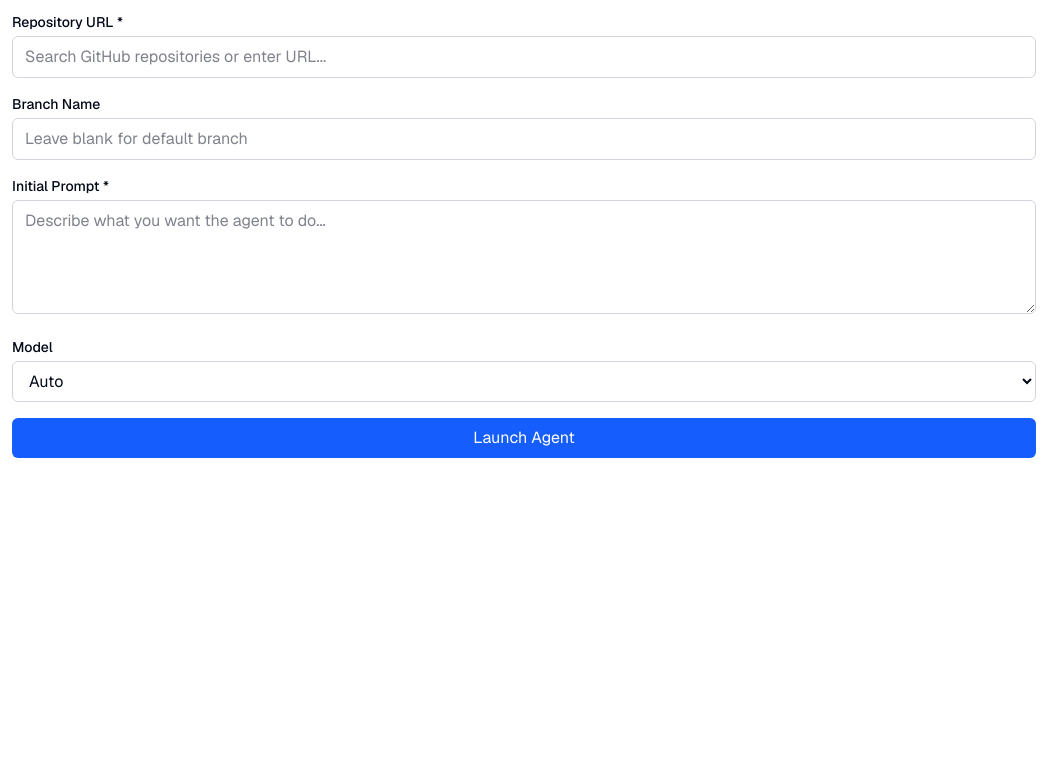
Test case: LaunchAgentForm › should handle API errors
In the field labelled "Repository URL *": [524, 57] box [12,36,1036,78], type "https://github.com/user/repo"
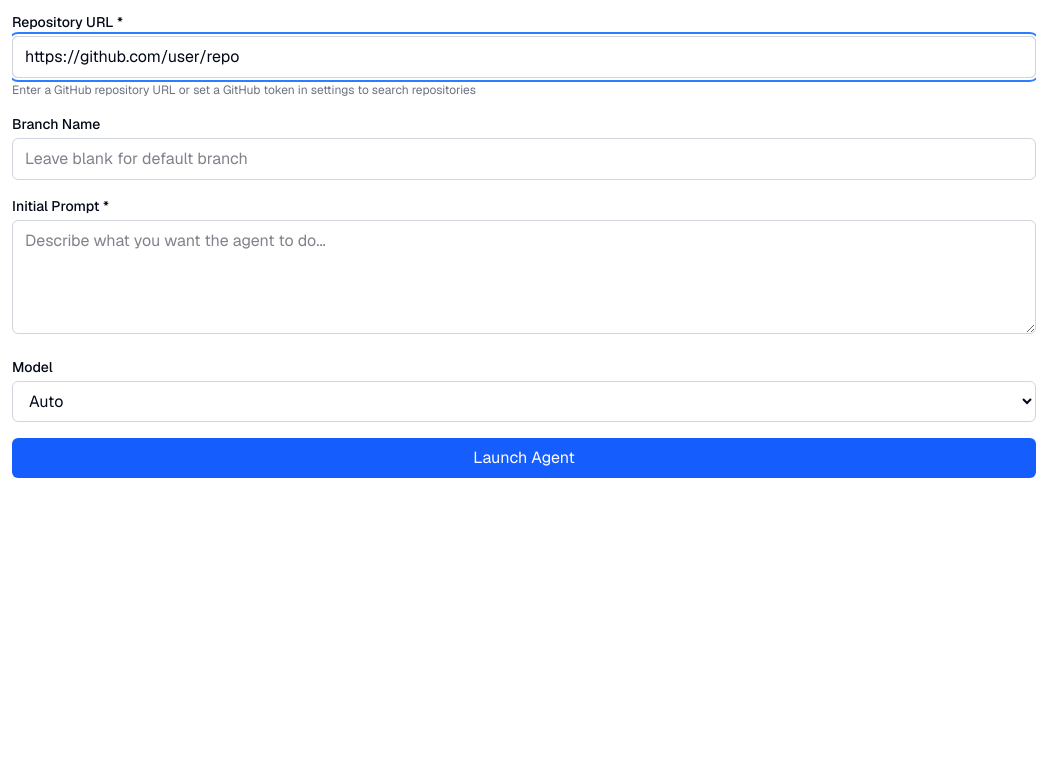
In the text box labelled "Initial Prompt *": [524, 277] box [12,220,1036,334], type "Test prompt"
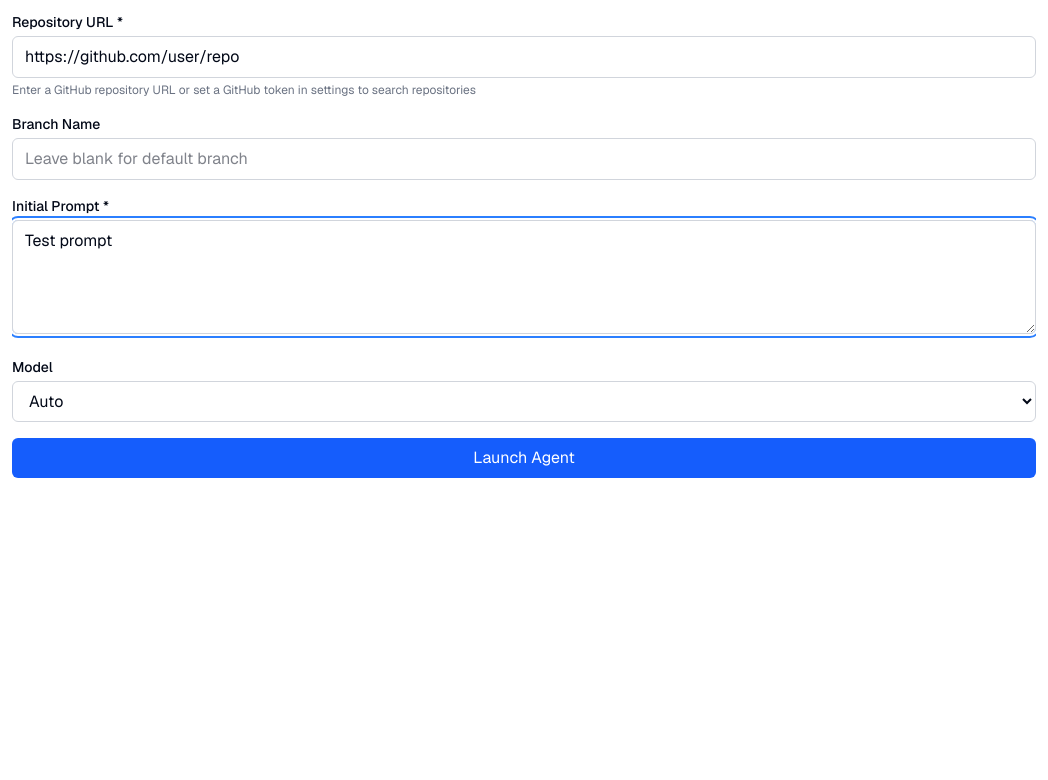
Click the button "Launch Agent": [524, 458] box [12,438,1036,478]
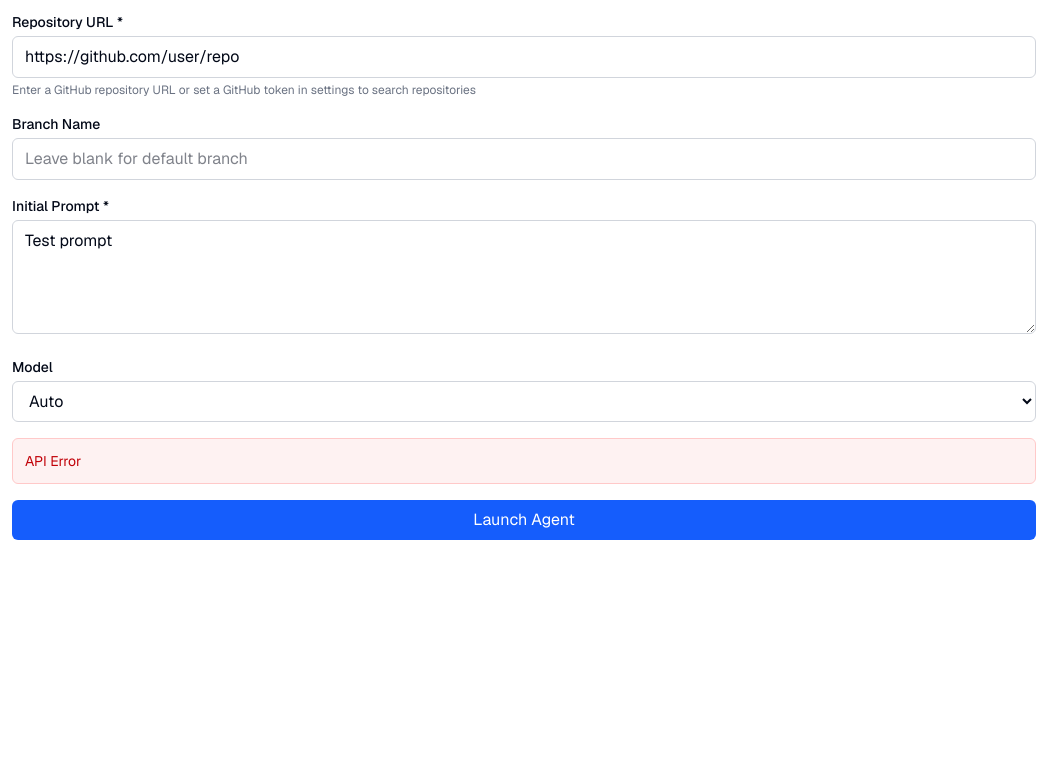
Expected: the text "API Error" is shown, [12,438,1036,484]
